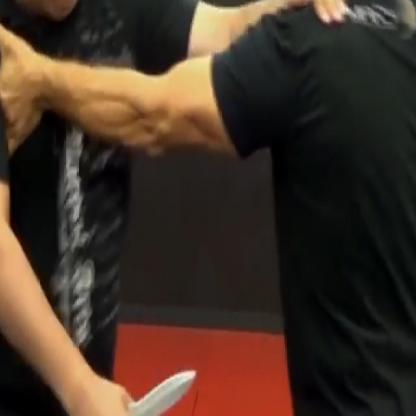knife: (71, 355, 201, 415)
